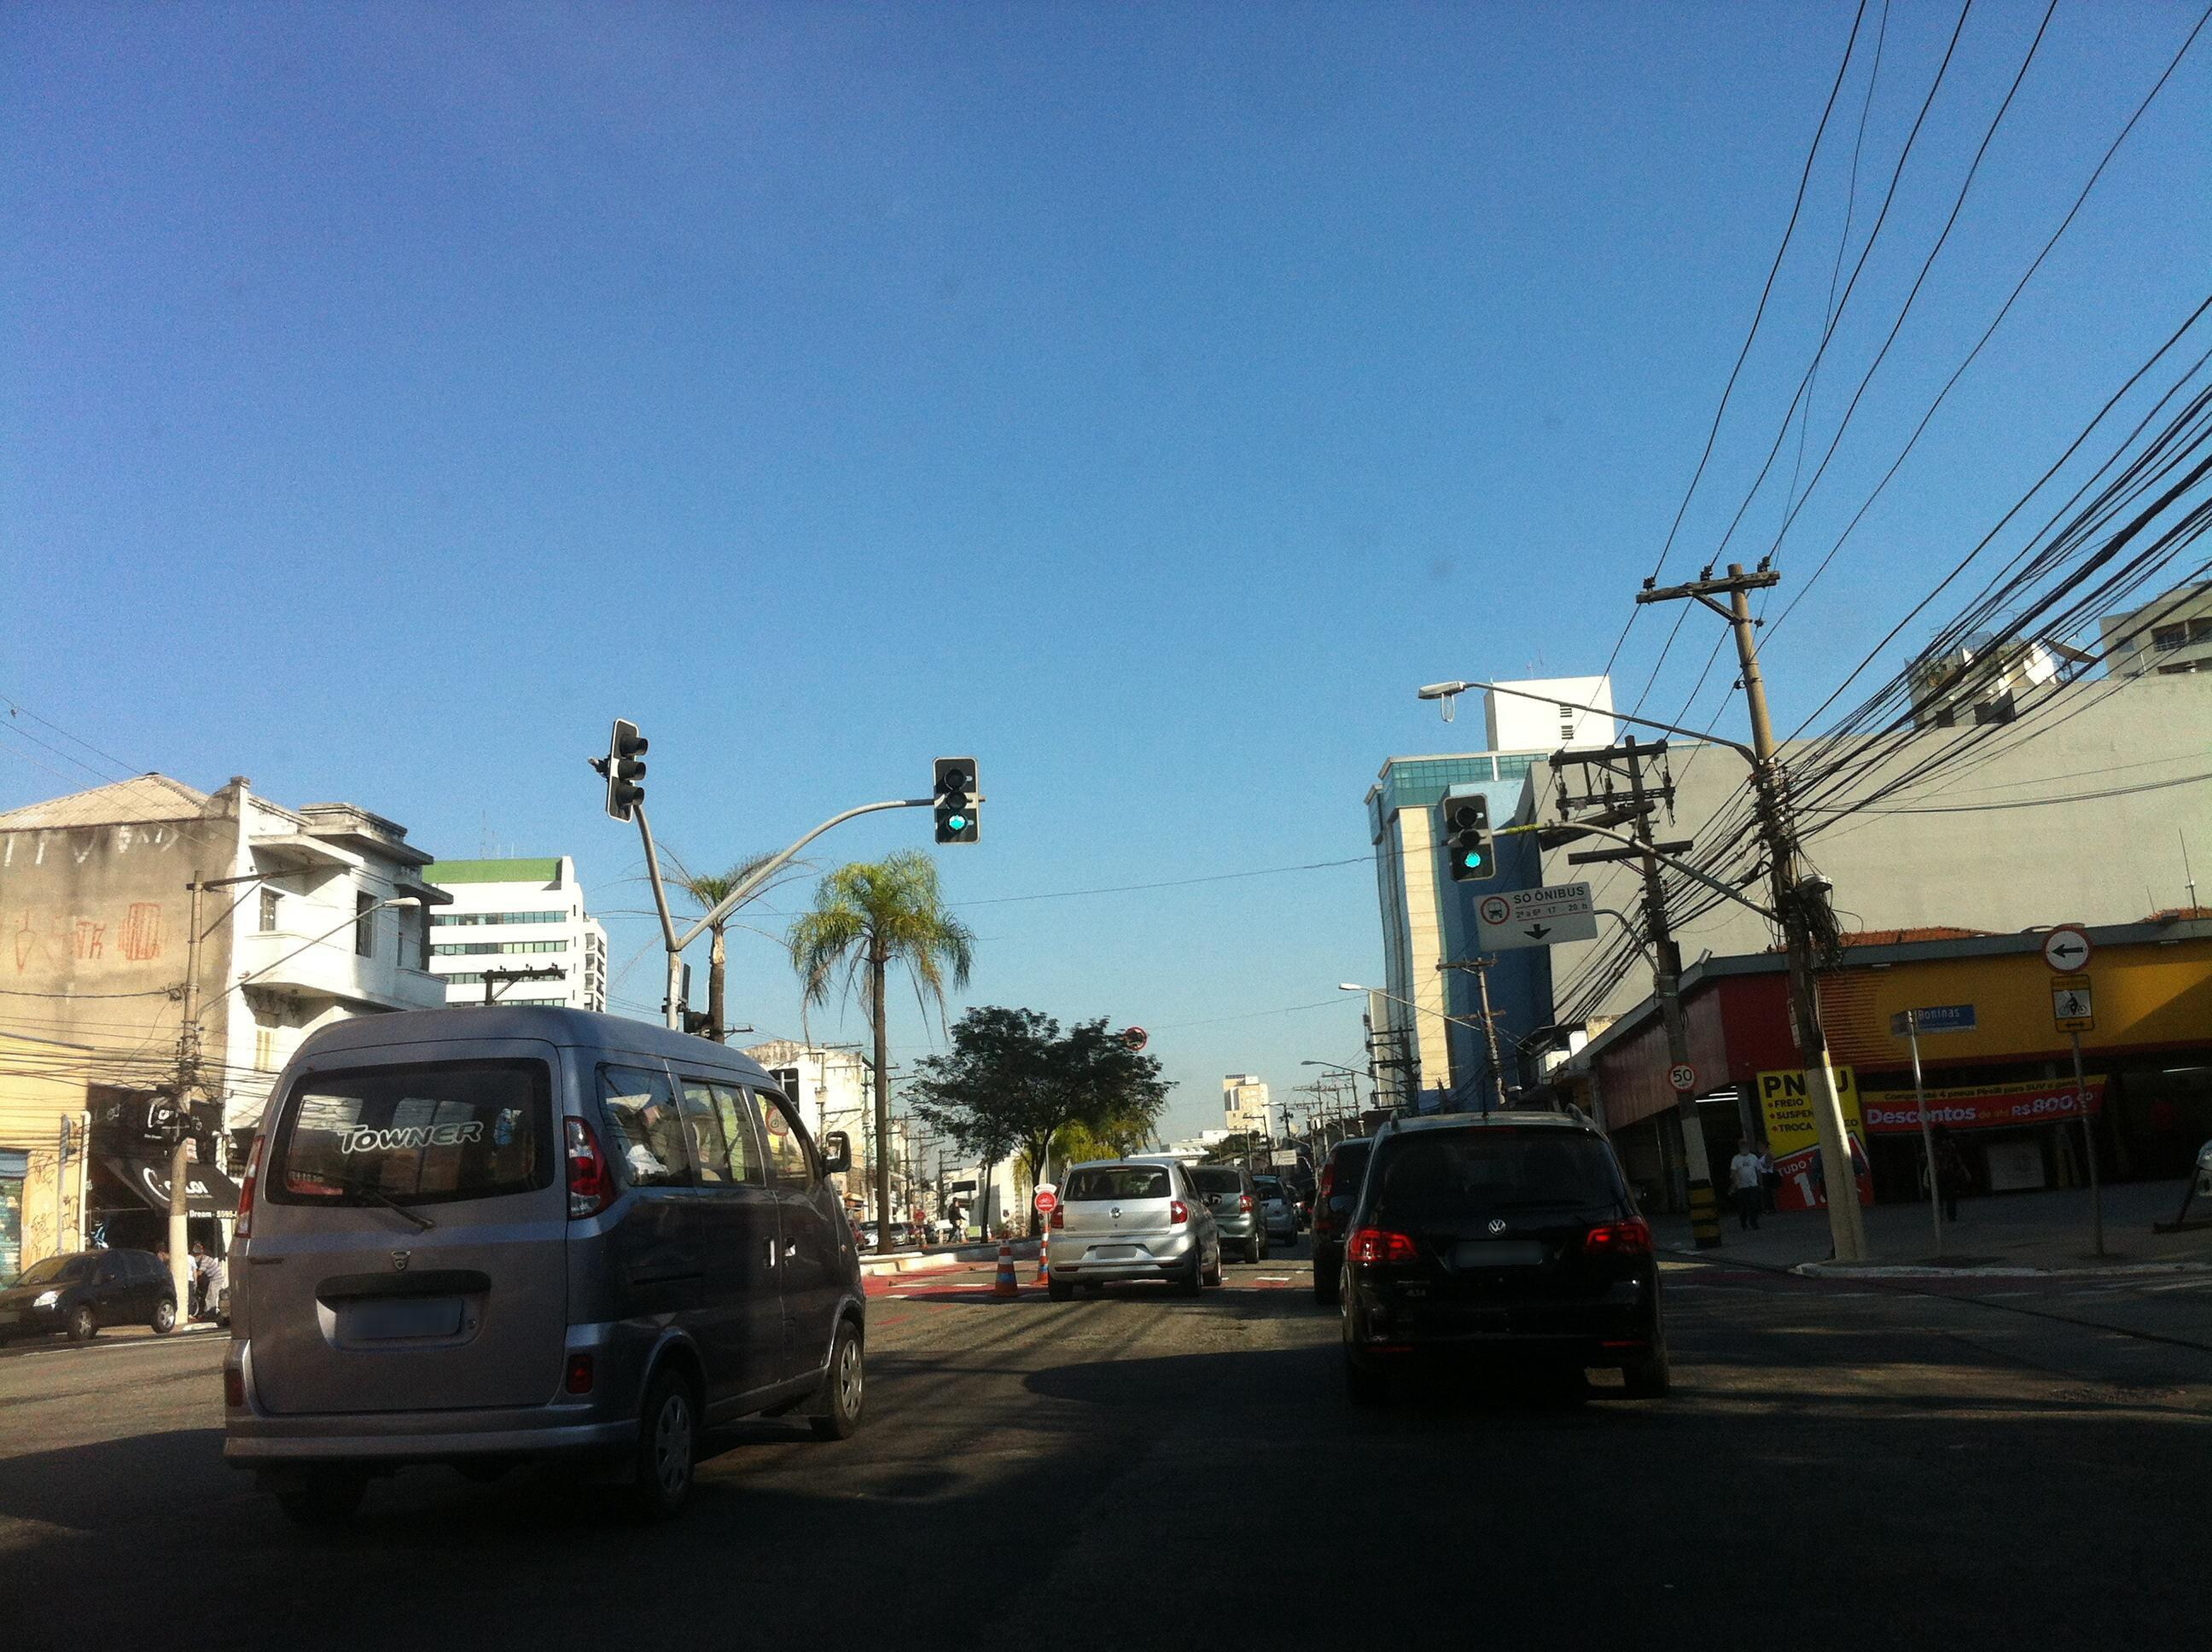vinyl banner: (1853, 1067, 2127, 1137)
